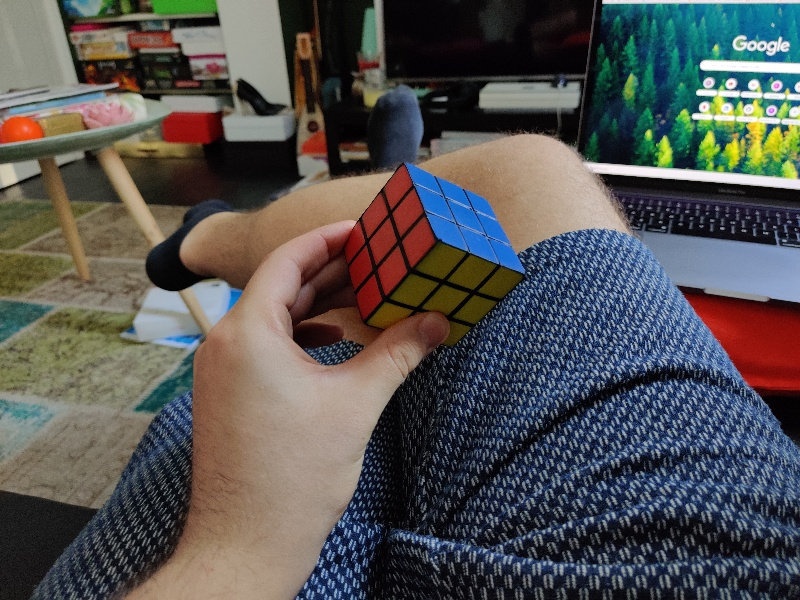rubik: (342, 162, 526, 343)
